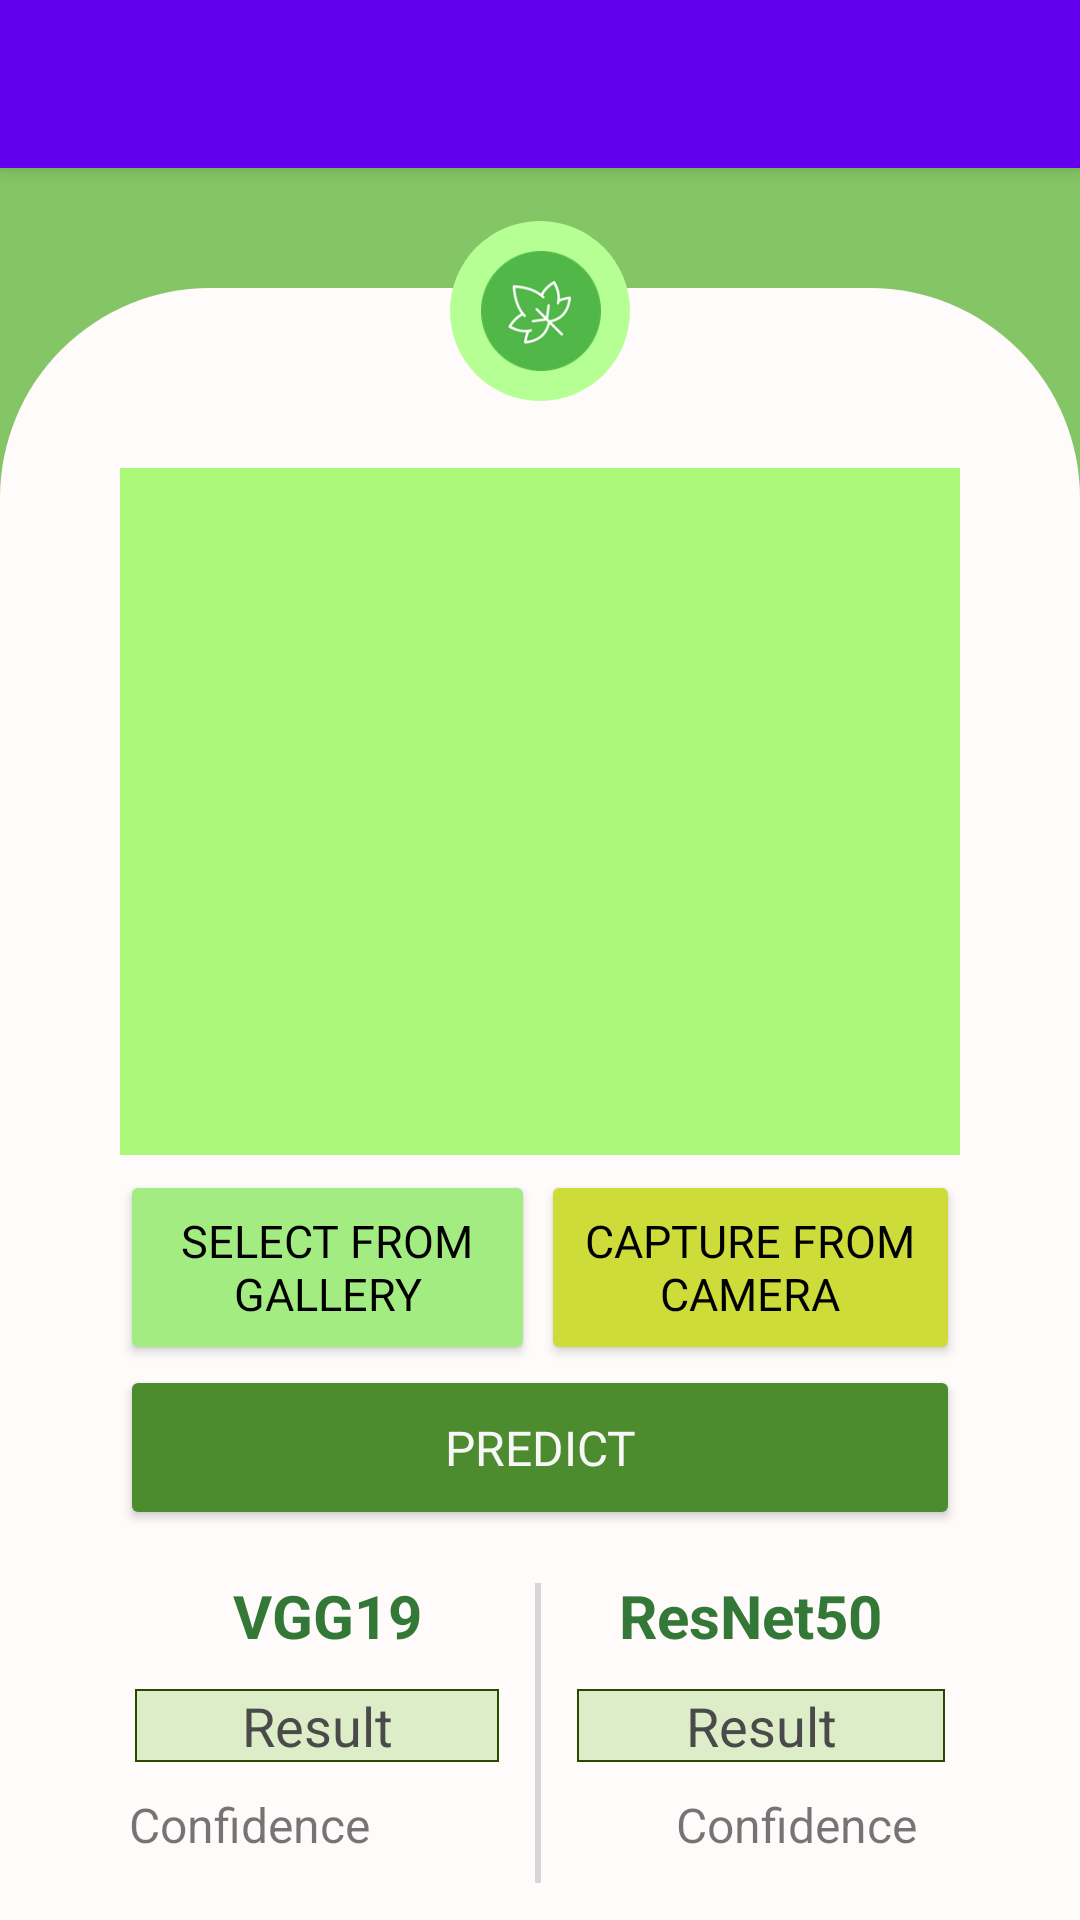

Icon bounding boxes for this 1080 x 1920 phone screenshot, format (x1, y1, x2, y2):
leaf: (481, 251, 601, 371)
